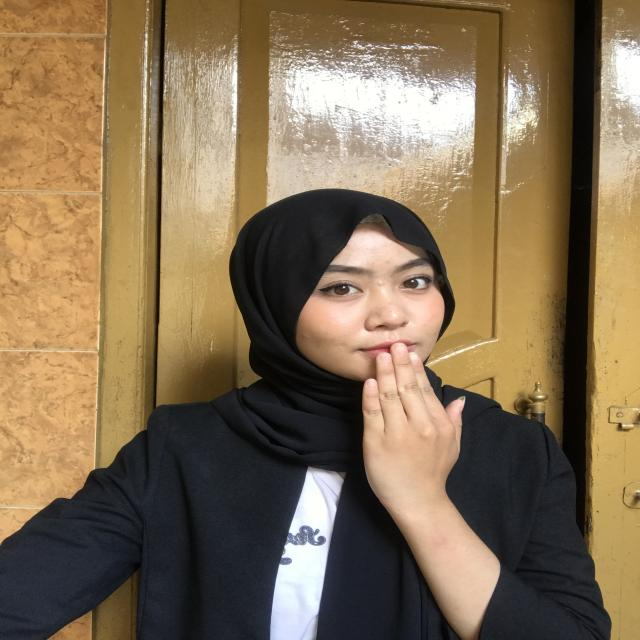ganteng: (345, 338, 480, 526)
